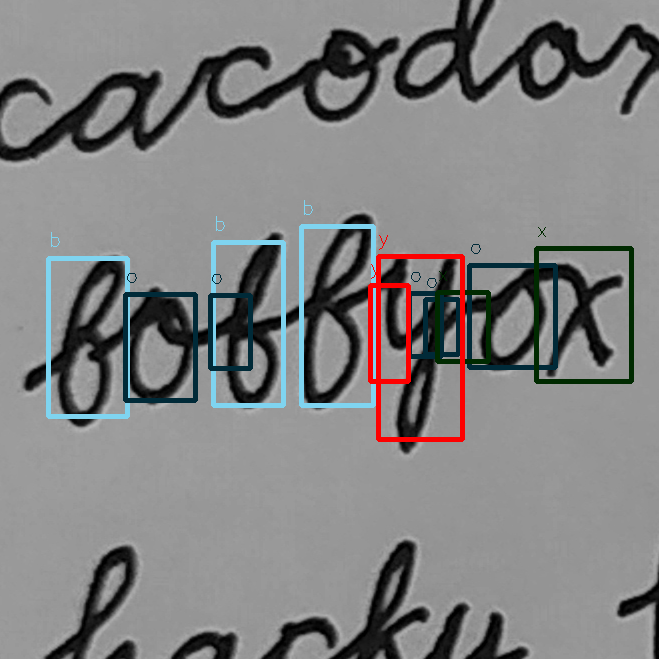b: (292, 209, 378, 416), (50, 249, 130, 432), (214, 227, 291, 413)
o: (119, 285, 204, 407), (474, 267, 550, 378)
x: (542, 252, 625, 384)
y: (380, 247, 460, 459)
